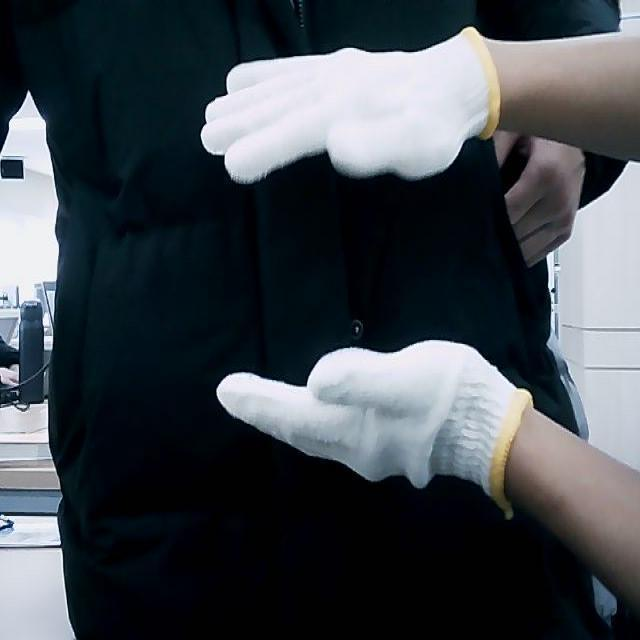gloves: (213, 340, 538, 520), (198, 26, 501, 186)
